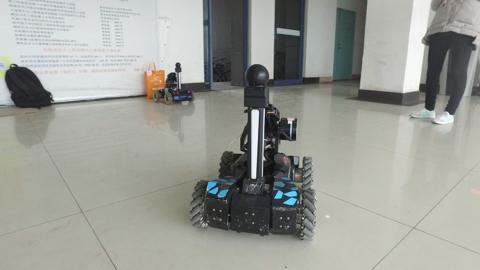bag: (2, 60, 55, 109), (140, 58, 166, 96)
chariot: (187, 62, 318, 244), (150, 61, 197, 106)
